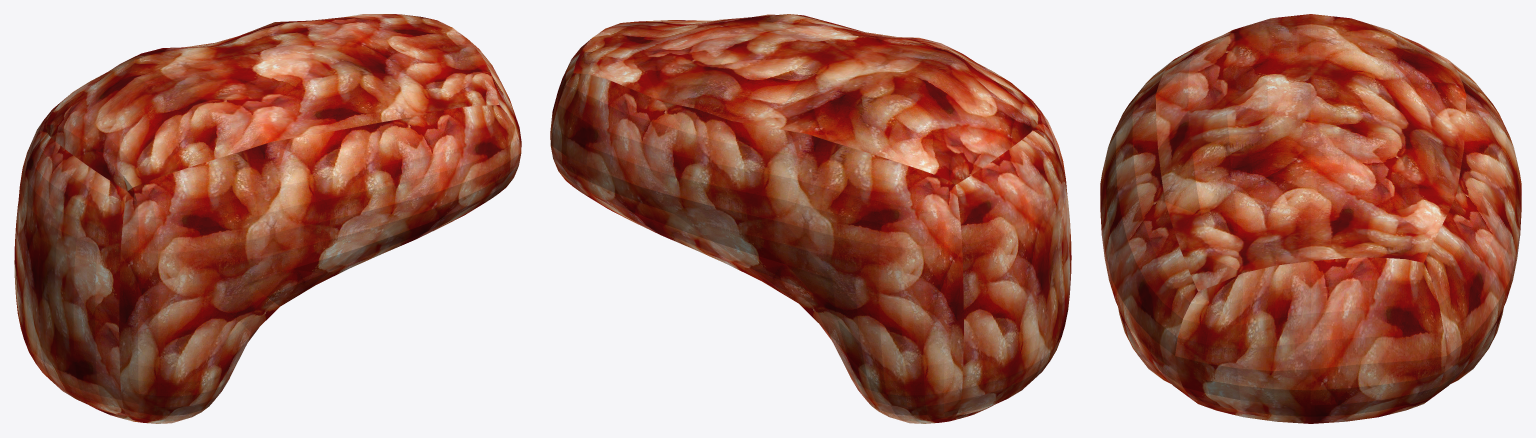
The model's file is blahhh.fbx.
3 renders of one model, left to right at view 1: azimuth 30°, elevation 25°; view 2: azimuth 150°, elevation 25°; view 3: azimuth 270°, elevation 25°, orthographic. The views are drawn at different scales.
Parts seen in each view (by area): view 1: worldspawn_0_18306.001, worldspawn_0_18369.001, worldspawn_0_18278.001, worldspawn_0_18348.001, worldspawn_0_18355.001, worldspawn_0_18334.001, worldspawn_0_18320.001, worldspawn_0_18292.001; view 2: worldspawn_0_18299.001, worldspawn_0_18362.001, worldspawn_0_18278.001, worldspawn_0_18348.001, worldspawn_0_18355.001, worldspawn_0_18327.001, worldspawn_0_18320.001, worldspawn_0_18292.001; view 3: worldspawn_0_18278.001, worldspawn_0_18292.001, worldspawn_0_18299.001, worldspawn_0_18306.001, worldspawn_0_18348.001, worldspawn_0_18362.001, worldspawn_0_18369.001, worldspawn_0_18327.001, worldspawn_0_18334.001.
Boxes of the visible parts, bbox=[...] form: worldspawn_0_18306.001: bbox=[272, 105, 521, 306]; worldspawn_0_18369.001: bbox=[119, 142, 293, 332]; worldspawn_0_18278.001: bbox=[164, 14, 499, 141]; worldspawn_0_18348.001: bbox=[47, 48, 271, 191]; worldspawn_0_18355.001: bbox=[14, 133, 127, 326]; worldspawn_0_18334.001: bbox=[119, 307, 279, 423]; worldspawn_0_18320.001: bbox=[14, 263, 126, 415]; worldspawn_0_18292.001: bbox=[469, 40, 521, 150]; worldspawn_0_18299.001: bbox=[550, 73, 806, 302]; worldspawn_0_18362.001: bbox=[784, 134, 963, 330]; worldspawn_0_18278.001: bbox=[573, 14, 916, 133]; worldspawn_0_18348.001: bbox=[807, 37, 1038, 184]; worldspawn_0_18355.001: bbox=[955, 125, 1071, 323]; worldspawn_0_18327.001: bbox=[799, 304, 963, 423]; worldspawn_0_18320.001: bbox=[956, 258, 1071, 415]; worldspawn_0_18292.001: bbox=[550, 38, 591, 142]; worldspawn_0_18278.001: bbox=[1155, 53, 1466, 291]; worldspawn_0_18292.001: bbox=[1175, 257, 1446, 423]; worldspawn_0_18299.001: bbox=[1424, 95, 1521, 402]; worldspawn_0_18306.001: bbox=[1100, 95, 1197, 402]; worldspawn_0_18348.001: bbox=[1156, 14, 1465, 94]; worldspawn_0_18362.001: bbox=[1448, 60, 1521, 181]; worldspawn_0_18369.001: bbox=[1100, 60, 1173, 181]; worldspawn_0_18327.001: bbox=[1451, 307, 1503, 383]; worldspawn_0_18334.001: bbox=[1118, 307, 1170, 383].
Bounding box in the file's own units: 182 × 120 × 114.
1 material, 1 textured.
